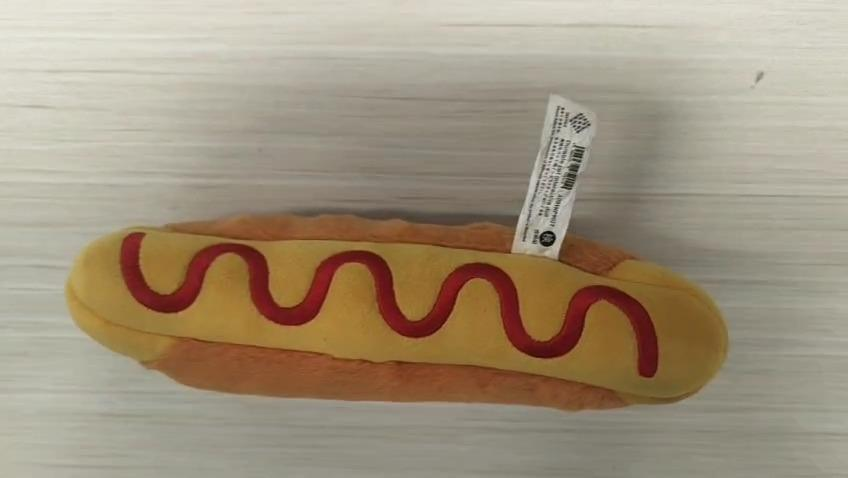hotdog: (64, 211, 729, 411)
